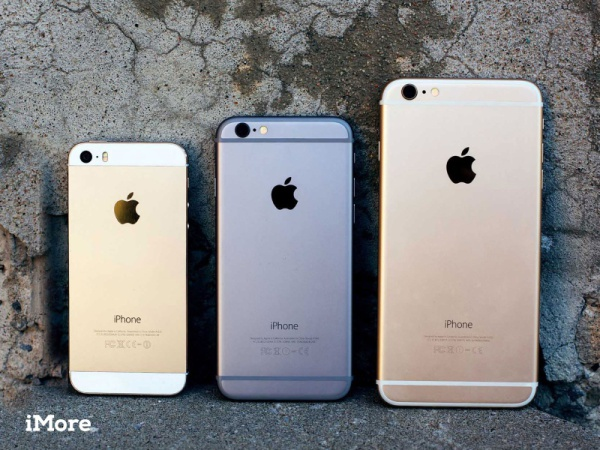apple: (430, 140, 491, 187), (261, 174, 309, 218), (110, 186, 154, 229)
